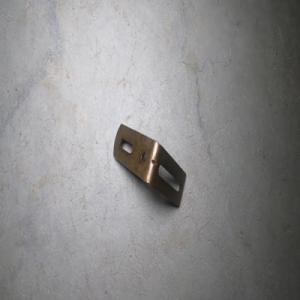MetalPart: (112, 122, 187, 209)
